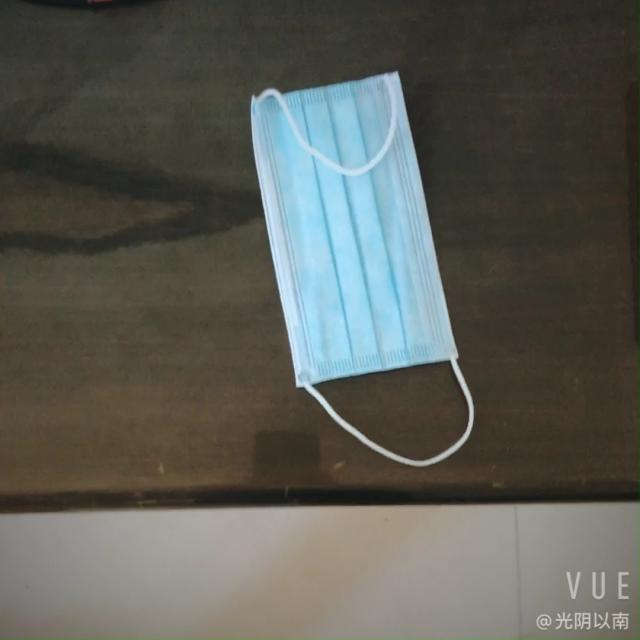non-organic waste: (226, 60, 483, 394)
